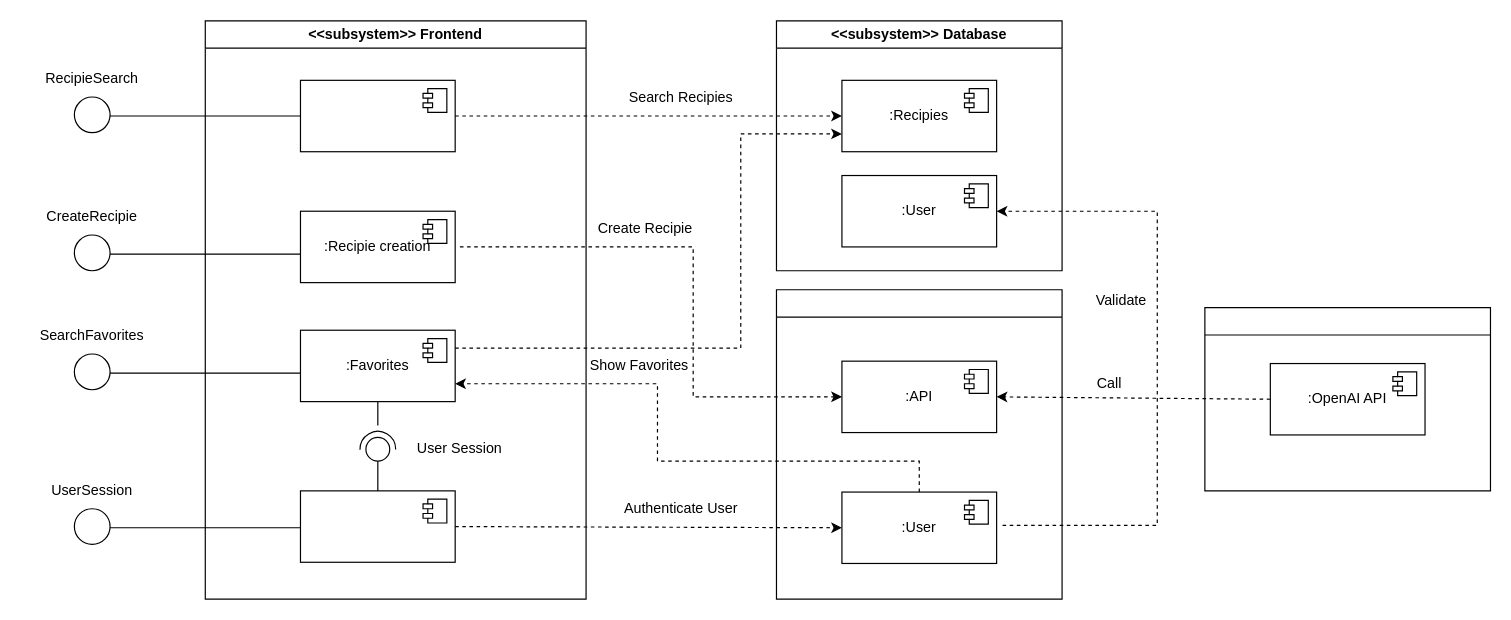
Some shapes in this 1511 by 620 pixel diagram are drawn without their labels. The shapes that lost their labels are listed below. From the top down, each one's box as (x1, y1, x2, y2) in pixels, then its label:
(299, 79, 455, 152): :SearchEngine
(1204, 306, 1490, 491): <<subsystem>> OpenAI API
(775, 289, 1062, 599): <<subsystem>> Backend
(299, 490, 455, 562): :Authentication
